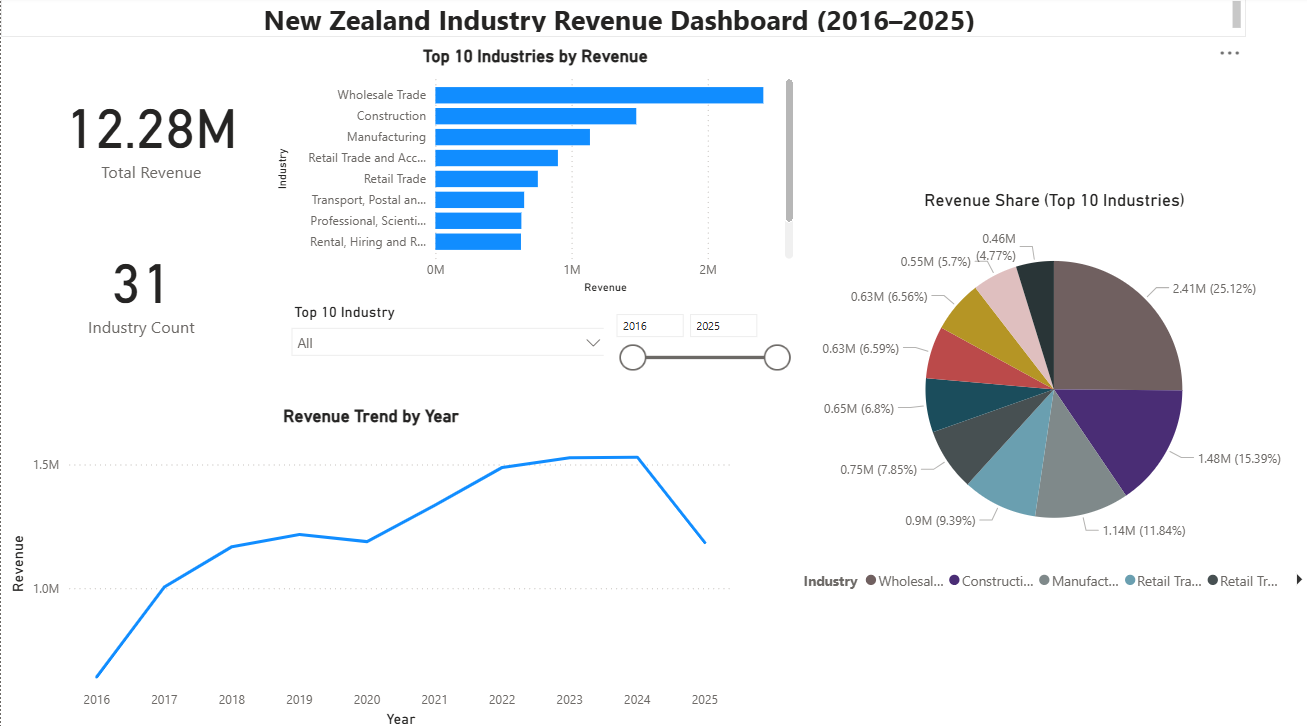

This screenshot's page, from the dashboard's own definition file:
{"tool":"powerbi","page":{"name":"Page 1","canvas":[1280,720],"ordinal":0},"visuals":[{"type":"card","fields":{"Values":["Sum(business-financial-data-september-2025-quarter.Revenue)"]},"box":[50.1,68.5,194.4,130.8],"z":0},{"type":"card","fields":{"Values":["Count(business-financial-data-september-2025-quarter.Industry)"]},"box":[40.4,221.3,194.4,128.4],"z":1000},{"type":"actionButton","box":[0,0,100,40],"z":2000},{"type":"lineChart","title":"Revenue Trend by Year","fields":{"Y":["business-financial-data-september-2025-quarter.Total Revenue"],"Category":["business-financial-data-september-2025-quarter.Year"]},"box":[3.7,401.1,716.6,319.2],"z":3000},{"type":"barChart","title":"Top 10 Industries by Revenue","fields":{"Y":["business-financial-data-september-2025-quarter.Total Revenue"],"Category":["business-financial-data-september-2025-quarter.Industry"]},"box":[265.4,48.9,514.8,247],"z":4000},{"type":"slicer","fields":{"Values":["business-financial-data-september-2025-quarter.Industry"]},"box":[273.9,295.9,327.7,63.6],"z":5000},{"type":"slicer","fields":{"Values":["business-financial-data-september-2025-quarter.Year"]},"box":[589.4,300.8,190.8,67.3],"z":6000},{"type":"pieChart","title":"Revenue Share (Top 10 Industries)","fields":{"Category":["business-financial-data-september-2025-quarter.Industry"],"Y":["business-financial-data-september-2025-quarter.Total Revenue"]},"box":[780.2,189.5,500.1,401.1],"z":7000},{"type":"textbox","box":[0,0,1217.9,40.4],"z":8000}]}

Visuals, with their boxes in screenshot pixels (x1, y1, x2, y2), scaled from the page's 1280x720 canvas onto the 1307x727 screenshot:
card - Sum(business-financial-data-september-2025-quarter.Revenue): x1=51 y1=69 x2=250 y2=201
card - Count(business-financial-data-september-2025-quarter.Industry): x1=41 y1=223 x2=240 y2=353
actionButton: x1=0 y1=0 x2=102 y2=40
"Revenue Trend by Year" lineChart: x1=4 y1=405 x2=735 y2=726
"Top 10 Industries by Revenue" barChart: x1=271 y1=49 x2=797 y2=299
slicer - business-financial-data-september-2025-quarter.Industry: x1=280 y1=299 x2=614 y2=363
slicer - business-financial-data-september-2025-quarter.Year: x1=602 y1=304 x2=797 y2=372
"Revenue Share (Top 10 Industries)" pieChart: x1=797 y1=191 x2=1306 y2=596
textbox: x1=0 y1=0 x2=1244 y2=41
